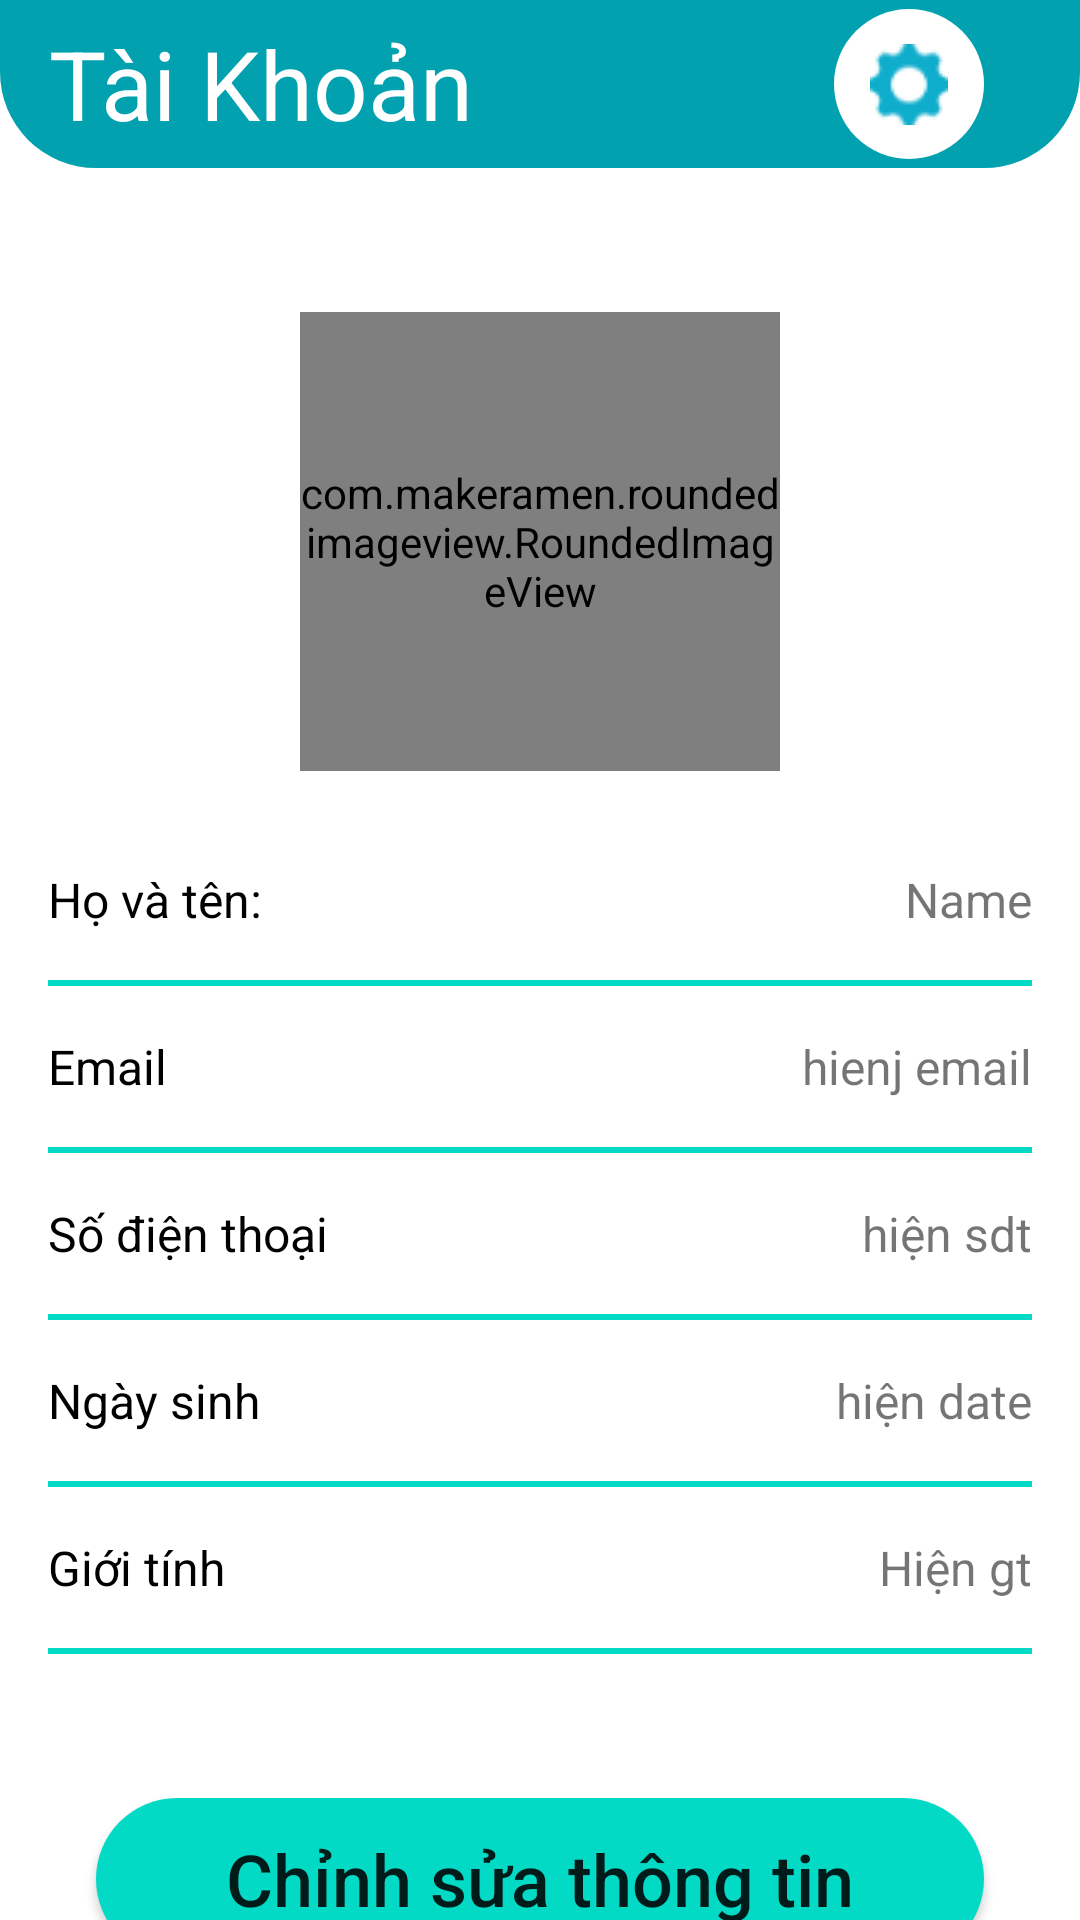

Point at icon controls on the screen. Image size 1080w x 1920h, points as (x=x, y=y).
setting: (x=909, y=84)
